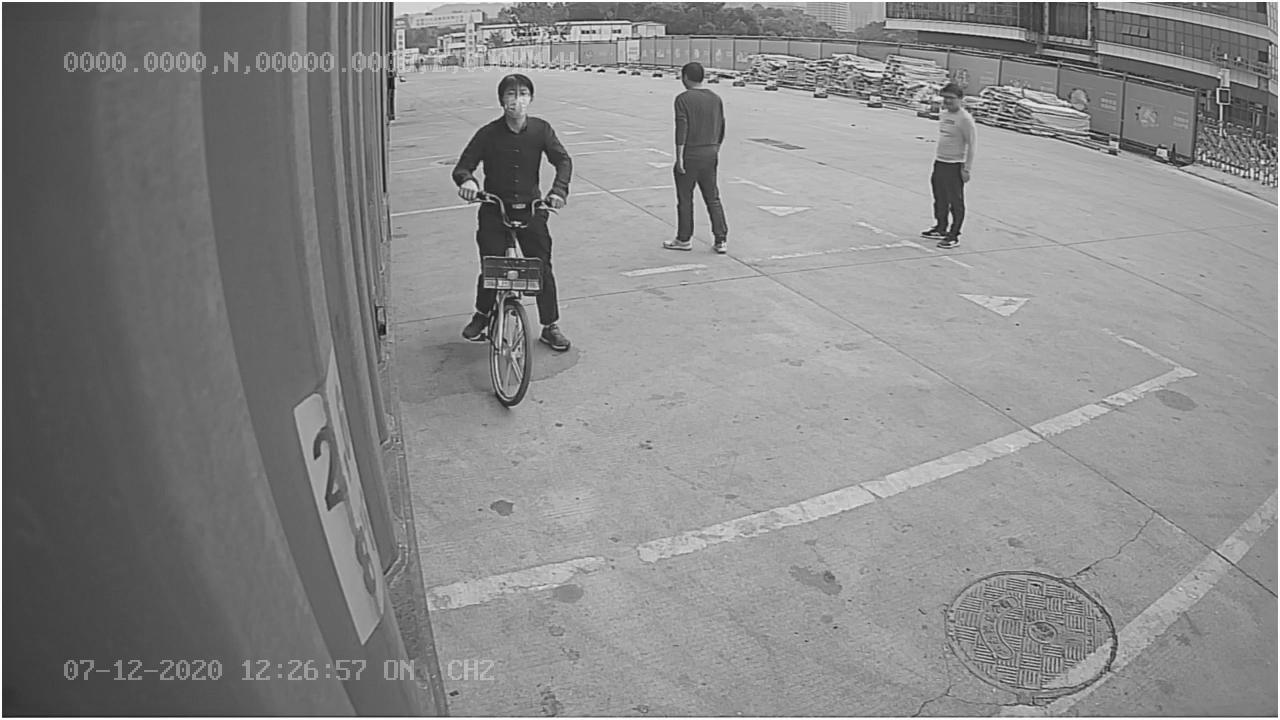person: (651, 58, 735, 254)
